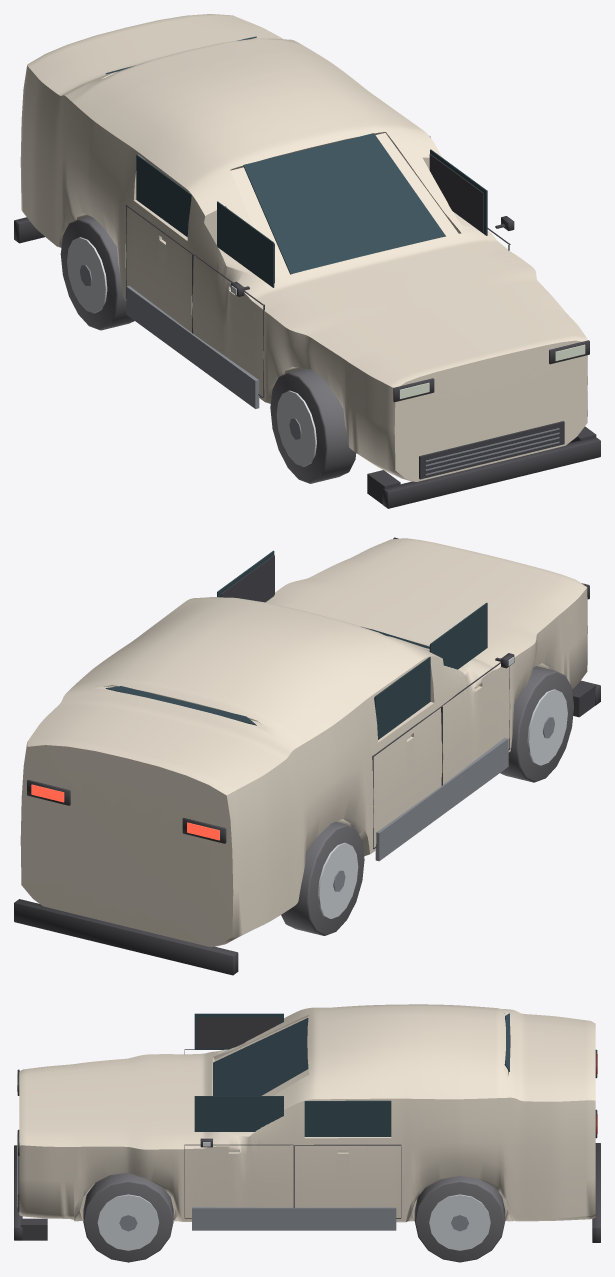
The model's file is Crossover_Compact_25.fbx.
3 views of the same model, one above another, from view 1: azimuth 30°, elevation 25°; view 2: azimuth 150°, elevation 25°; view 3: azimuth 270°, elevation 25° (orthographic). The views are drawn at different scales.
Parts seen in each view (by area): view 1: LOD0; view 2: LOD0; view 3: LOD0.
Part boxes in pixels (x1=…): LOD0: x1=14, y1=14, x2=600, y2=508; LOD0: x1=14, y1=537, x2=600, y2=975; LOD0: x1=14, y1=1004, x2=600, y2=1262.
Size of what is drawn, in the model's own units: 207 by 168 by 478.
